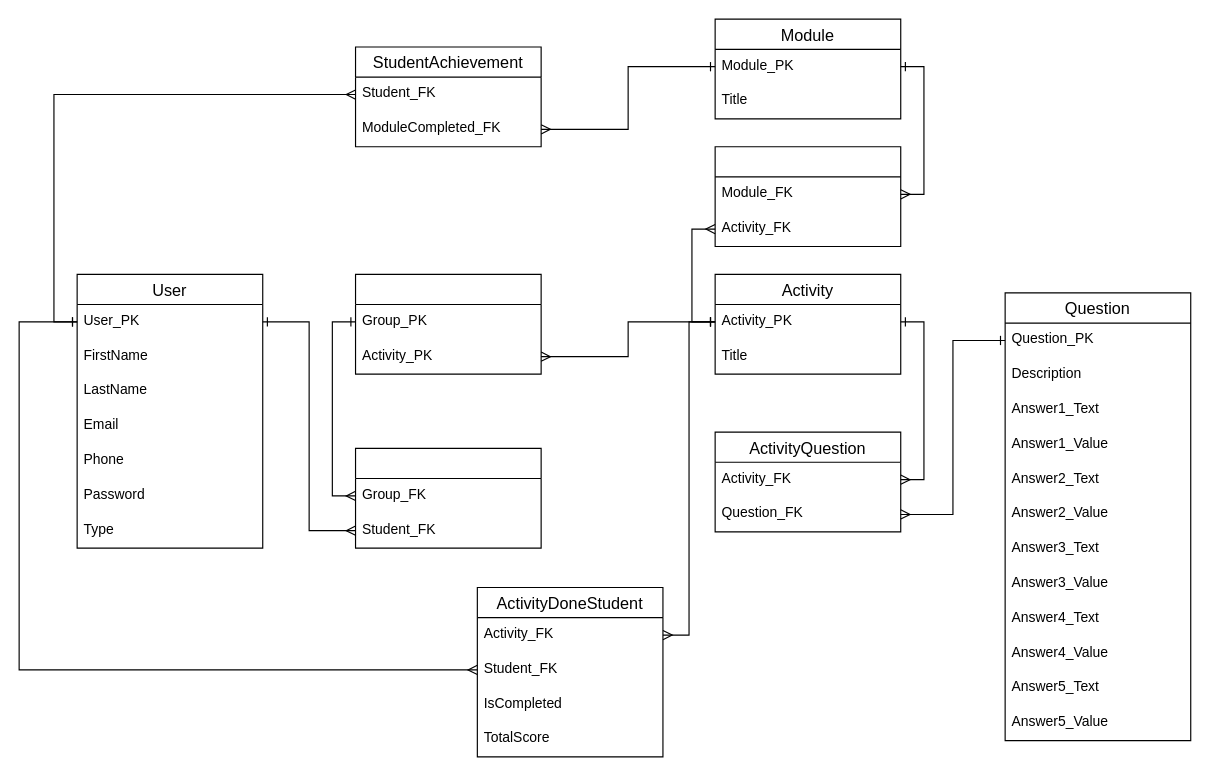
Image size: 1210x776. Some labels were removed from this diagram. The box of each missing label's shape, as (x1, y1, x2, y2) in pixels:
ActivityGroup: (354, 273, 541, 374)
ActivityGroupStudent: (354, 447, 541, 548)
ModuleActivity: (714, 146, 901, 246)
